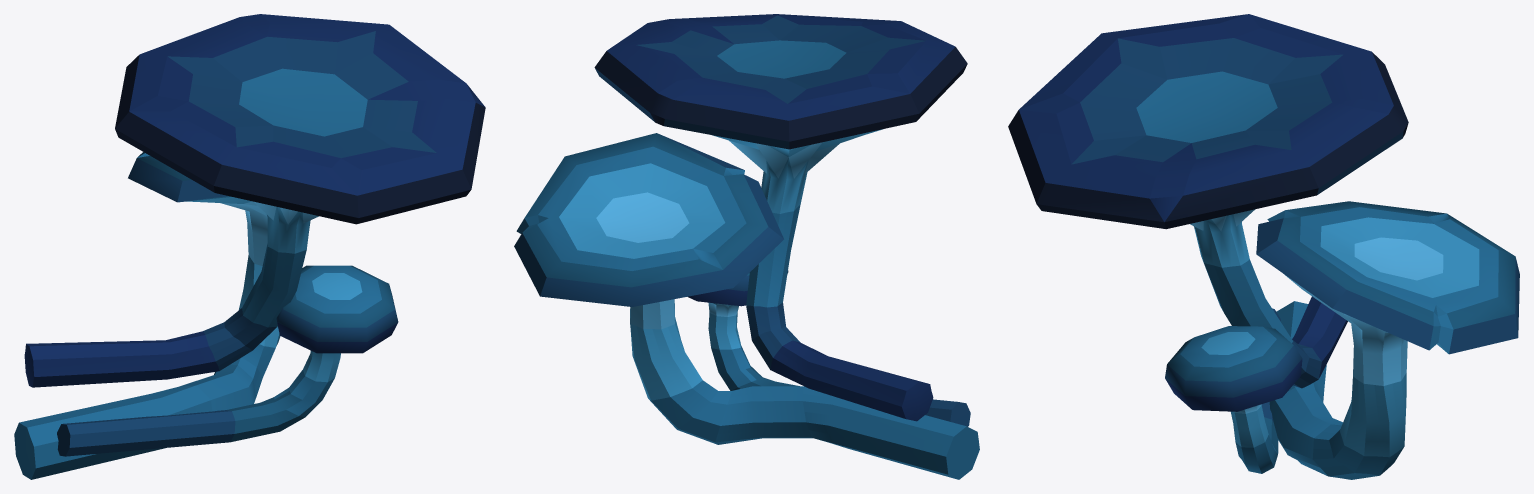
Rendered from mushroomcluster01.fbx.
3 renders of one model, left to right at view 1: azimuth 30°, elevation 25°; view 2: azimuth 150°, elevation 25°; view 3: azimuth 270°, elevation 25°, orthographic. The views are drawn at different scales.
Visible parts, largest first — view 1: MC1_Mushroom1, MC1_Mushroom3, MC1_Mushroom2; view 2: MC1_Mushroom2, MC1_Mushroom1, MC1_Mushroom3; view 3: MC1_Mushroom1, MC1_Mushroom2, MC1_Mushroom3.
Boxes of the visible parts, x1,y1,x2,y2 form: MC1_Mushroom1: [24, 14, 485, 387]; MC1_Mushroom3: [57, 265, 398, 456]; MC1_Mushroom2: [14, 152, 280, 479]; MC1_Mushroom2: [514, 133, 979, 479]; MC1_Mushroom1: [594, 14, 967, 421]; MC1_Mushroom3: [687, 270, 970, 426]; MC1_Mushroom1: [1008, 14, 1408, 388]; MC1_Mushroom2: [1256, 201, 1519, 479]; MC1_Mushroom3: [1165, 308, 1302, 473].
Bounding box in the file's own units: 13.3 × 11.59 × 13.69.
